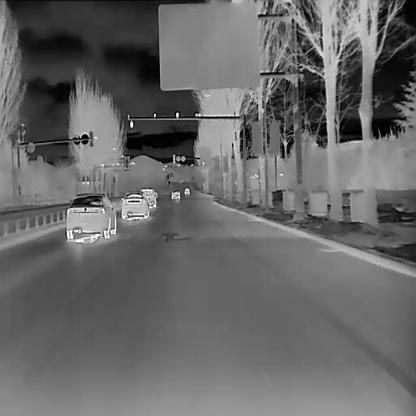car: (65, 192, 117, 240), (121, 190, 150, 219), (140, 187, 157, 206), (170, 189, 180, 199), (183, 187, 190, 194)
